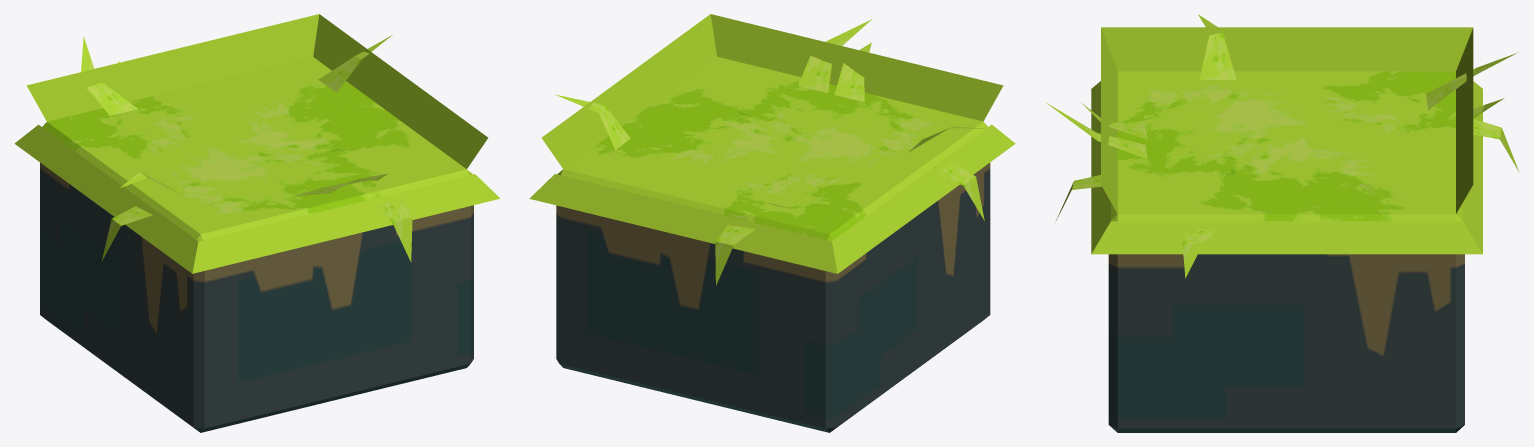
File: tilegrass001.glb
3 views of the same model, side by side, from view 1: azimuth 30°, elevation 25°; view 2: azimuth 150°, elevation 25°; view 3: azimuth 270°, elevation 25° (orthographic). The views are drawn at different scales.
Visible parts, largest first — view 1: tilegrass001; view 2: tilegrass001; view 3: tilegrass001.
Part boxes in pixels (<box>): tilegrass001: <box>14,14,499,432</box>; tilegrass001: <box>529,14,1015,432</box>; tilegrass001: <box>1045,14,1519,432</box>.
Bounding box in the file's own units: 1.29 × 0.8446 × 1.34.
2 materials, 2 textured.
